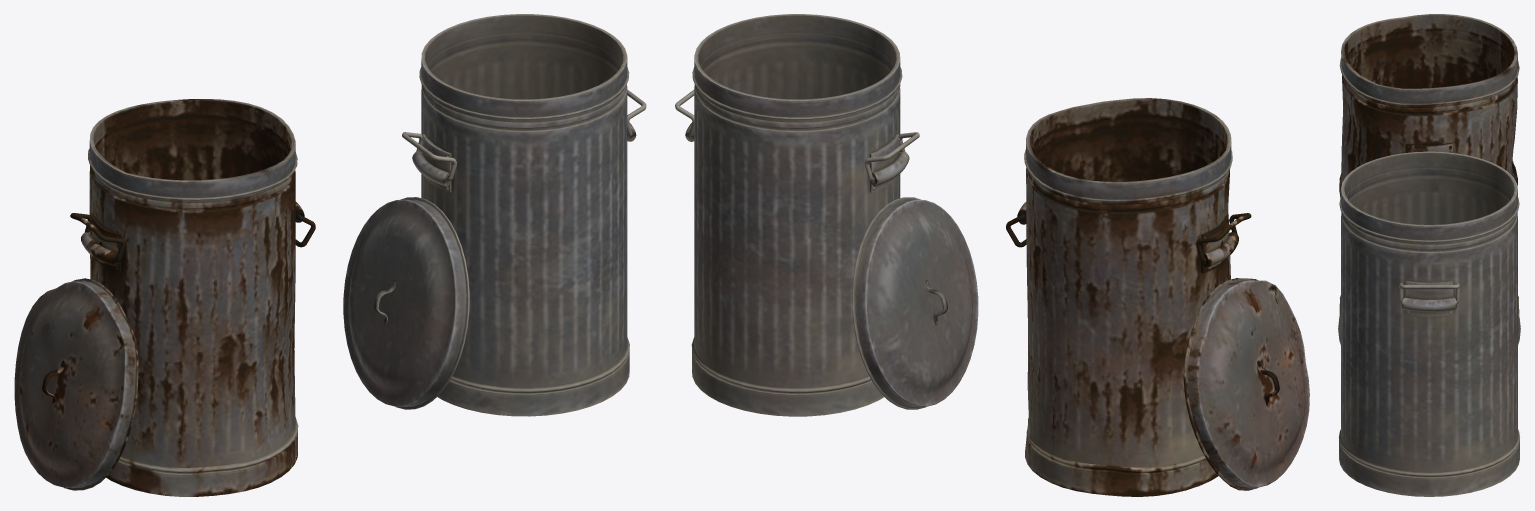
Rendered from metal_trash_can.glb.
3 views of the same model, side by side, from view 1: azimuth 30°, elevation 25°; view 2: azimuth 150°, elevation 25°; view 3: azimuth 270°, elevation 25° (orthographic). The views are drawn at different scales.
Visible parts, largest first — view 1: metal_trash_can, metal_trash_can_rust, metal_trash_can_lid, metal_trash_can_rust_lid; view 2: metal_trash_can, metal_trash_can_rust, metal_trash_can_lid, metal_trash_can_rust_lid; view 3: metal_trash_can, metal_trash_can_rust, metal_trash_can_handle_right.
Boxes of the visible parts, bbox=[...] form: metal_trash_can: bbox=[412, 14, 636, 416]; metal_trash_can_rust: bbox=[81, 99, 304, 496]; metal_trash_can_lid: bbox=[343, 197, 469, 409]; metal_trash_can_rust_lid: bbox=[14, 278, 138, 490]; metal_trash_can: bbox=[685, 14, 909, 416]; metal_trash_can_rust: bbox=[1017, 98, 1238, 496]; metal_trash_can_lid: bbox=[852, 197, 978, 409]; metal_trash_can_rust_lid: bbox=[1183, 278, 1309, 490]; metal_trash_can: bbox=[1338, 151, 1519, 496]; metal_trash_can_rust: bbox=[1339, 14, 1519, 316]; metal_trash_can_handle_right: bbox=[1399, 283, 1459, 303].
Bounding box in the file's own units: 1.78 × 0.9062 × 0.5563.
Materials: 3 (3 with a texture image).
